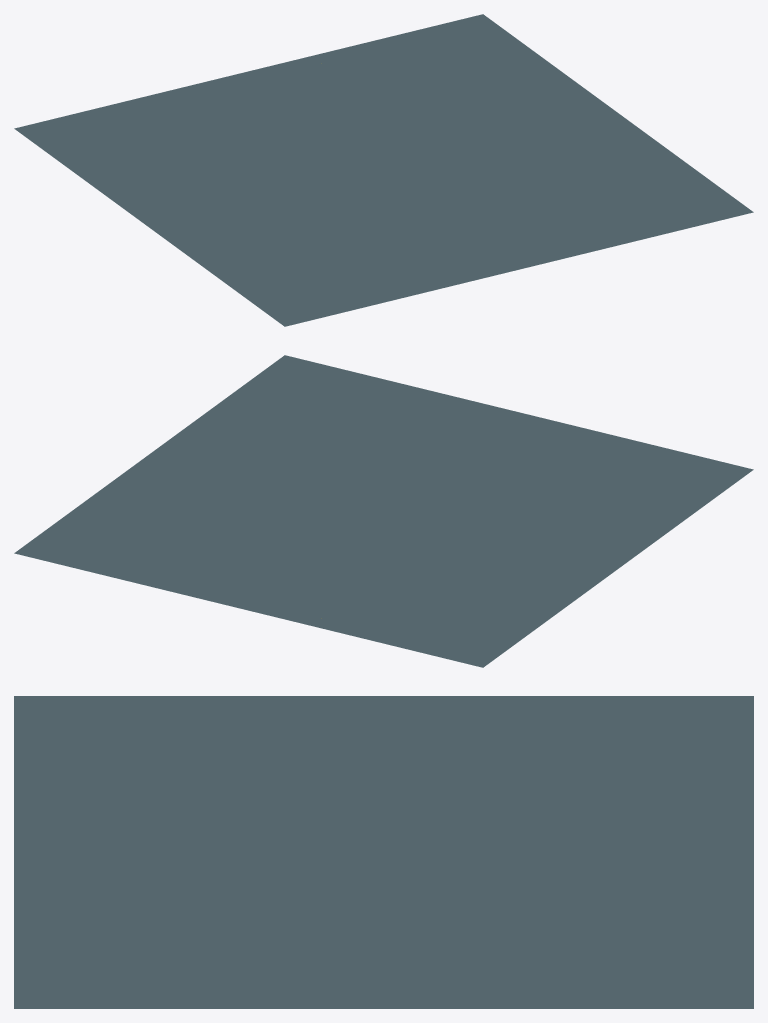
Rendered from Ceiling_type_C_036.glb.
3 renders of one model, top to bottom at view 1: azimuth 30°, elevation 25°; view 2: azimuth 150°, elevation 25°; view 3: azimuth 270°, elevation 25°, orthographic. The views are drawn at different scales.
Visible parts, largest first — view 1: Ceiling_type_C_036; view 2: Ceiling_type_C_036; view 3: Ceiling_type_C_036.
Boxes of the visible parts, x1,y1,x2,y2 form: Ceiling_type_C_036: (14,14,753,326); Ceiling_type_C_036: (14,355,753,667); Ceiling_type_C_036: (14,696,753,1008).
Bounding box in the file's own units: 4 × 0.012 × 4.
2 materials, 2 textured.
